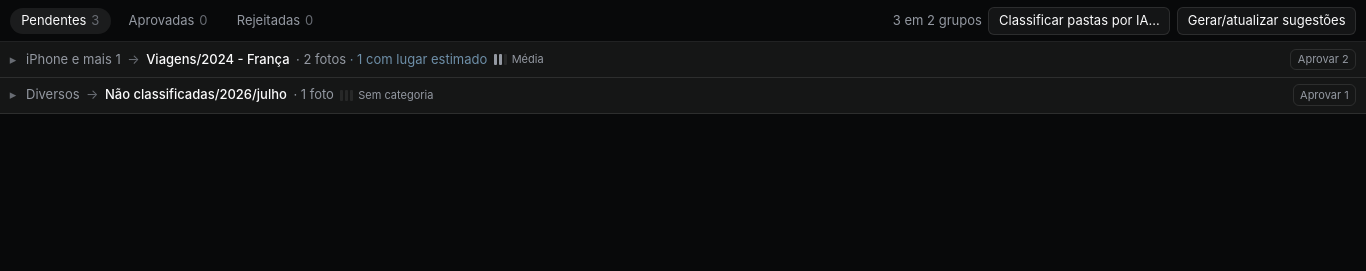
Test: Review › mostra o nome do arquivo, não o caminho que o truncava
Click the text "Viagens/2024 - França". click: (218, 59)
box: [146,50,290,69]
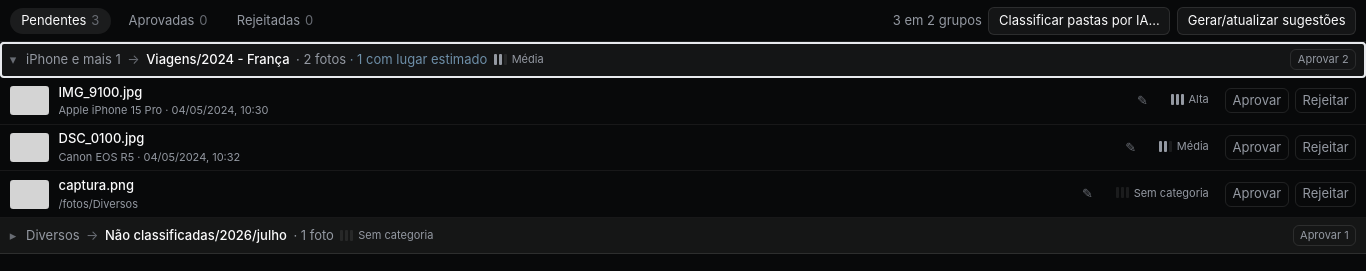
Expected: the text "DSC_0100.jpg" is shown, [58,129,144,149]
Expected: the text "Canon EOS R5 · 04/05/2024, 10:32" is shown, [58,150,240,164]
